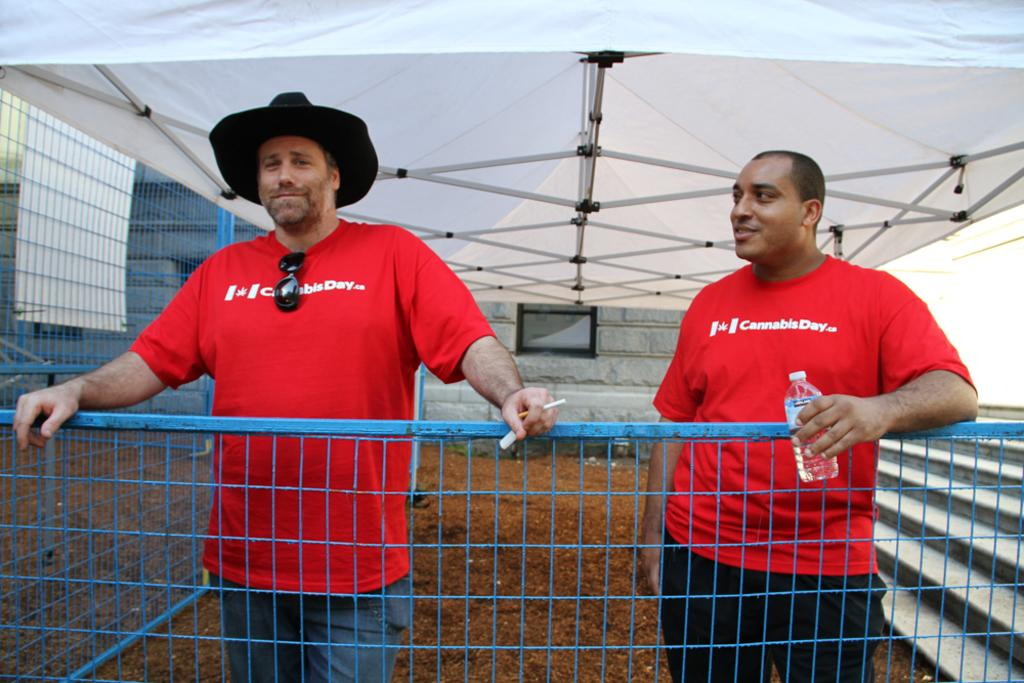Hat: (205, 91, 379, 207)
